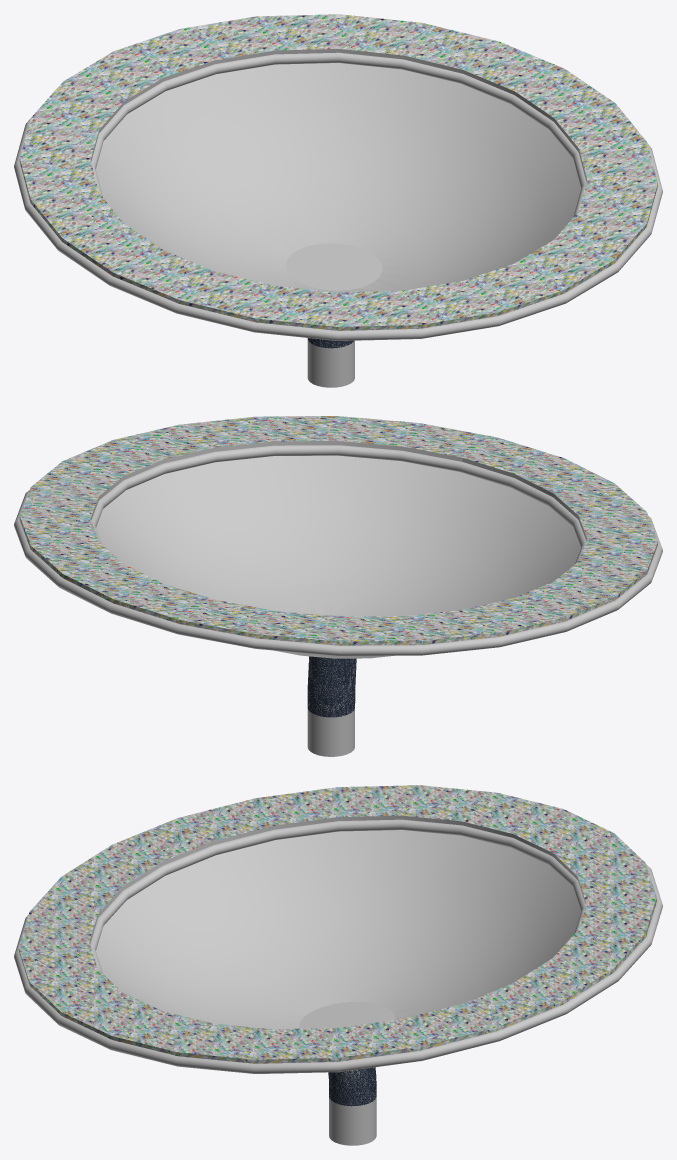
Rendered from Food Plate.dae.
3 renders of one model, top to bottom at view 1: azimuth 30°, elevation 25°; view 2: azimuth 150°, elevation 25°; view 3: azimuth 270°, elevation 25°, orthographic.
Parts seen in each view (by area): view 1: SketchUp (×5); view 2: SketchUp (×5); view 3: SketchUp (×6).
Part boxes in pixels (left/top/right/bottom): SketchUp (×5): left=14, top=14, right=662, bottom=387; SketchUp (×5): left=14, top=416, right=662, bottom=756; SketchUp (×6): left=14, top=785, right=662, bottom=1145.
Bounding box in the file's own units: 75.12 × 74.83 × 30.35.
Materials: 3 (1 with a texture image).
